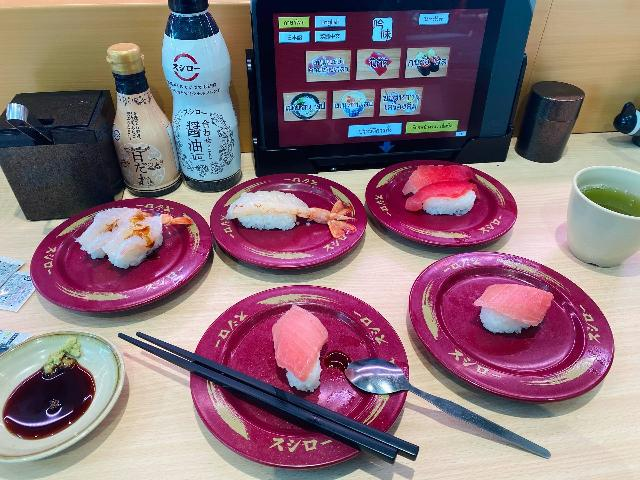janred: (189, 295, 411, 453), (401, 258, 632, 393), (41, 199, 214, 288), (207, 174, 372, 264), (361, 171, 514, 242)
